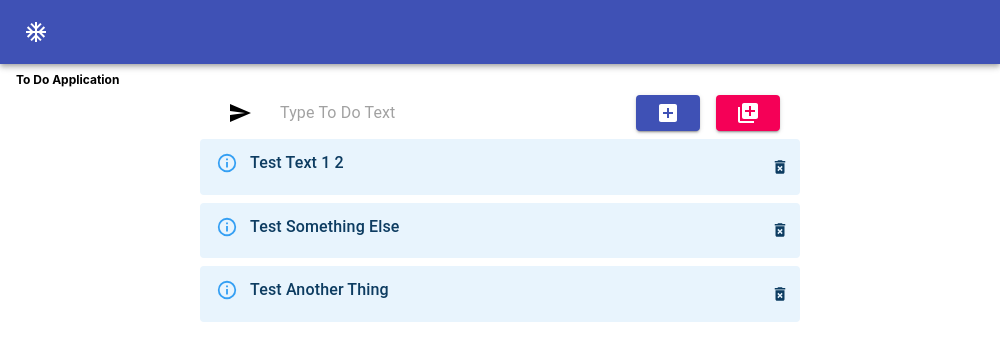
Test: ToDos Tests - Poorly Written › Should allow remove
This screenshot has width=1000, height=339.
Expected: the text "Test Text 1 2" is shown, top-left (250, 151), bottom-right (344, 175)
Step 1. Click the button named "close" in the row of "Test Text 1 2" → {"x": 780, "y": 167}, box top-left (768, 155), bottom-right (792, 179)
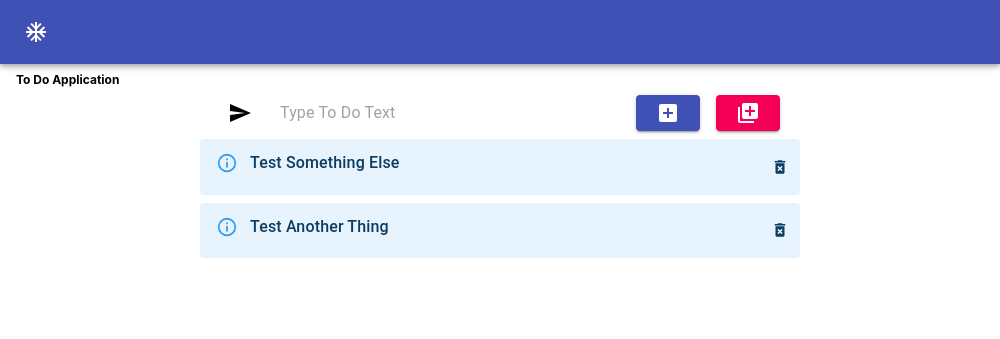
Expected: the text "Test Something Else" is shown, top-left (250, 151), bottom-right (400, 175)
Expected: the number of elements with test id "todo" is 2, top-left (200, 139), bottom-right (800, 195); top-left (200, 203), bottom-right (800, 258)
Expected: the text "Test Text 1 2" is gone
